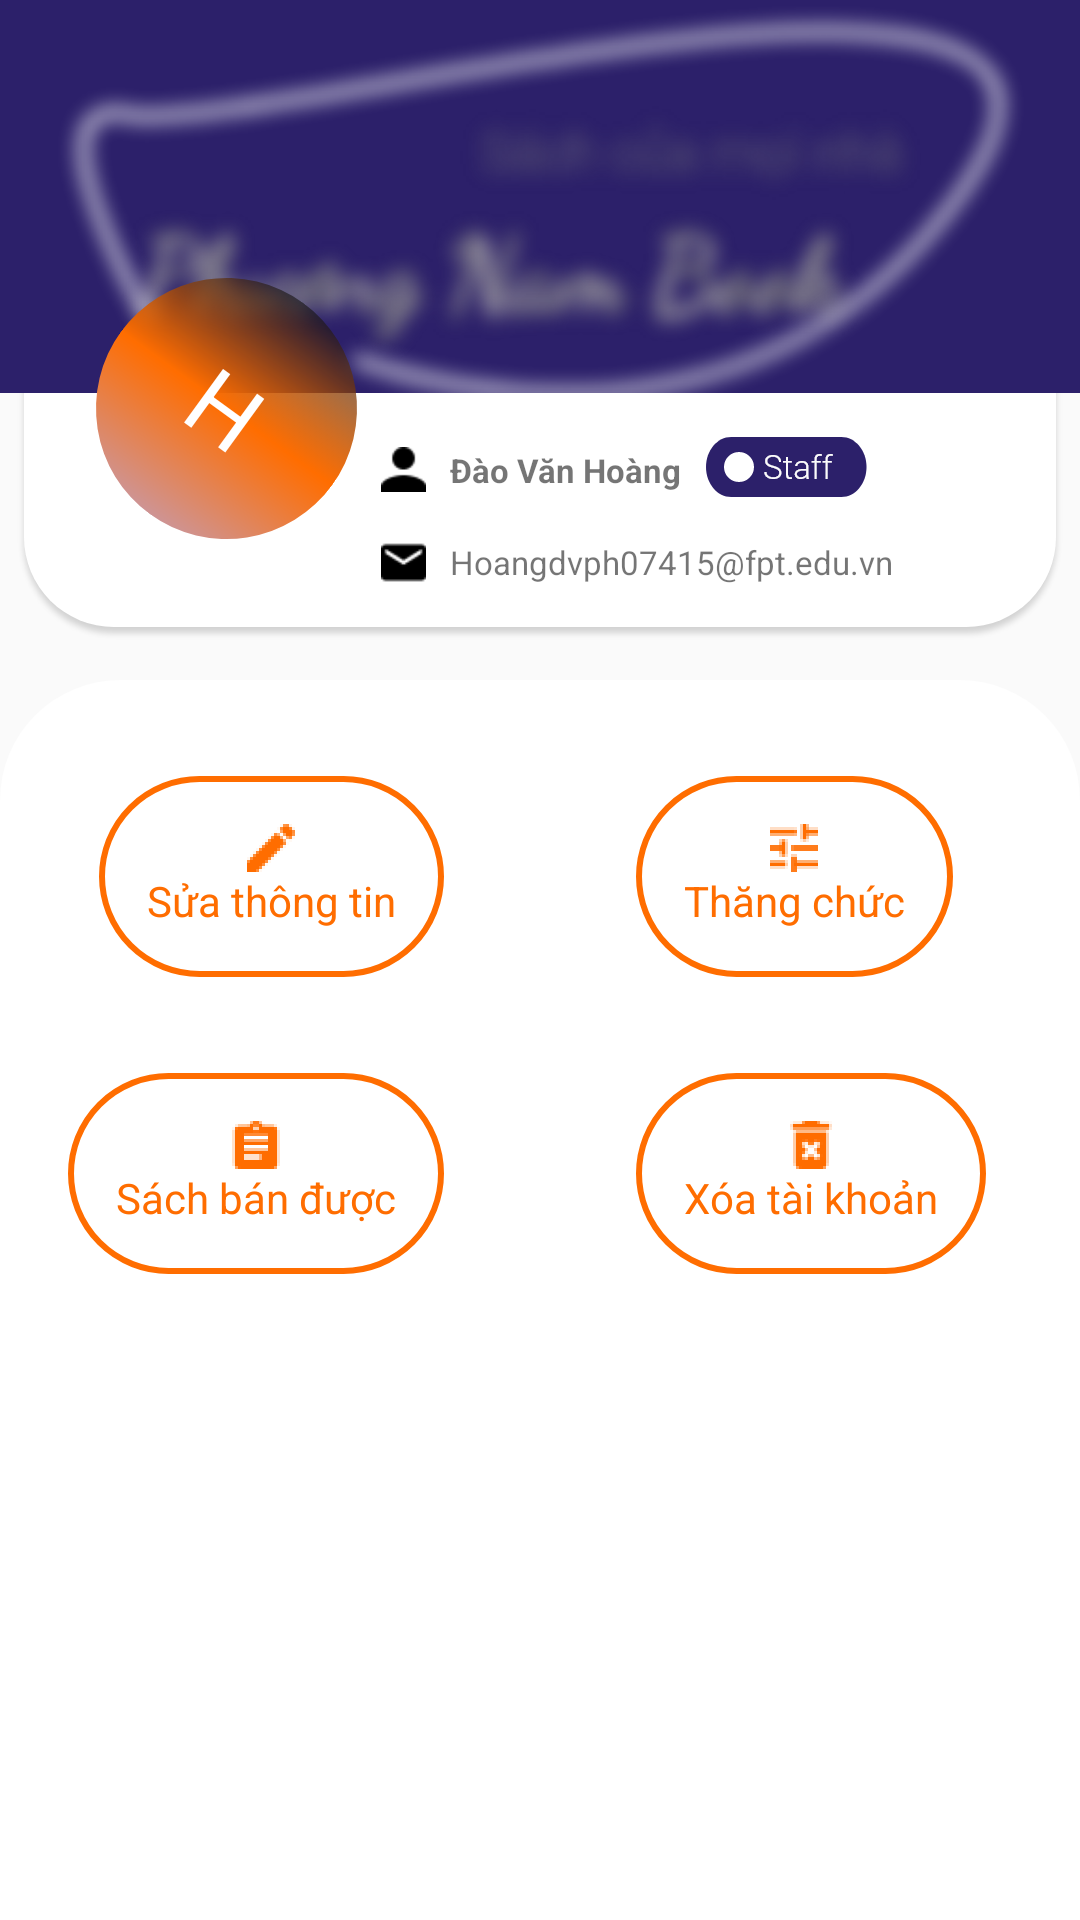

Point at icon controls on the screen. Image size 1080w x 1920h, points as (x,y).
mail item: (403,562)
panel: (794,848)
user item: (403,469)
